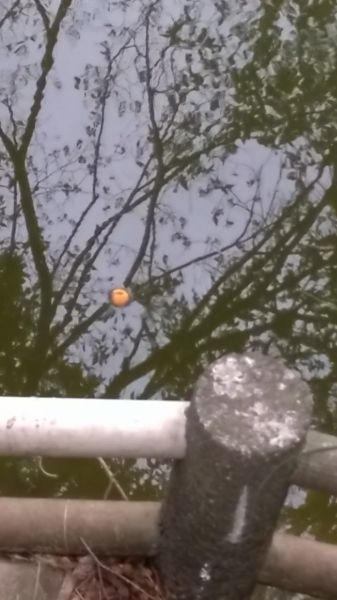eggs: (107, 283, 134, 309)
